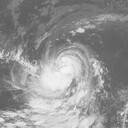cyclone: (32, 42, 91, 98)
